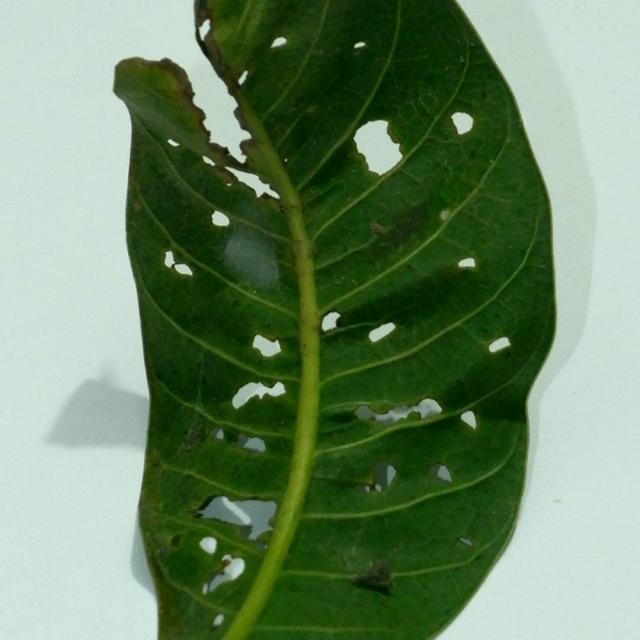Anthracnose: (133, 147, 274, 318), (449, 169, 545, 350), (302, 139, 415, 241), (308, 404, 495, 461), (153, 548, 248, 616), (157, 458, 290, 506), (283, 0, 340, 97), (295, 496, 461, 524), (369, 547, 491, 577), (322, 313, 401, 346), (181, 356, 207, 449), (241, 622, 397, 634), (325, 408, 363, 424), (399, 161, 426, 183)
Mango: (112, 0, 557, 639)
